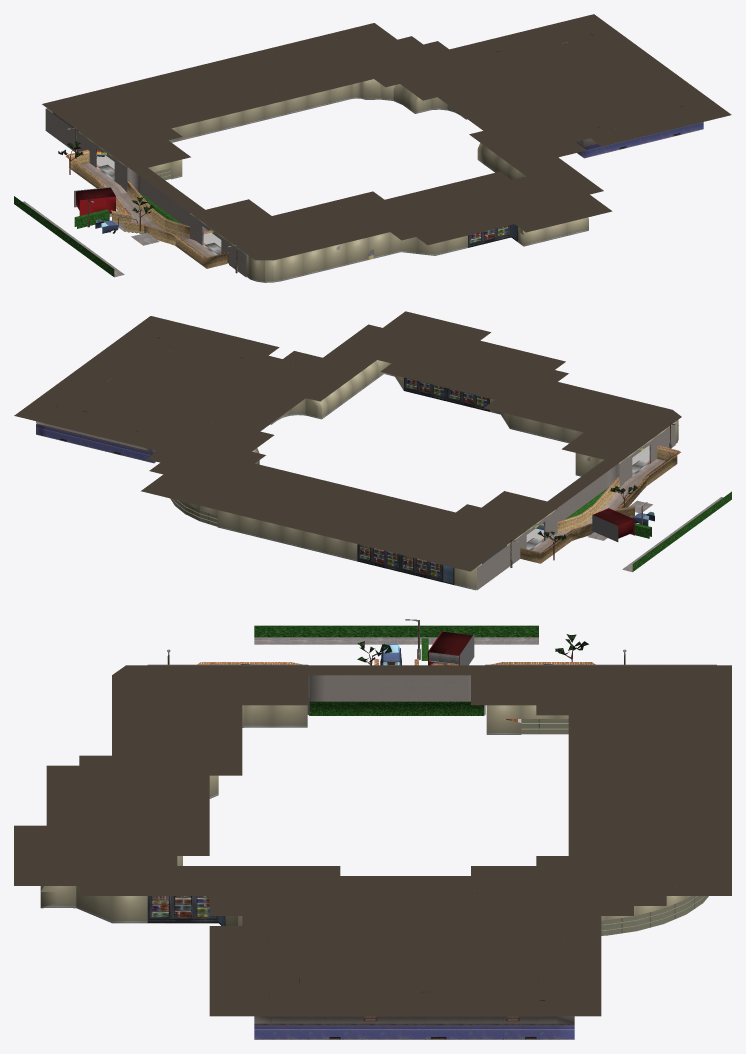
The model's file is market2.fbx.
3 views of the same model, one above another, from view 1: azimuth 30°, elevation 25°; view 2: azimuth 150°, elevation 25°; view 3: azimuth 270°, elevation 25° (orthographic). The views are drawn at different scales.
Parts seen in each view (by area): view 1: milk_ff.prm.001, milk_ff.prm.007, milk_ff.prm.002, milk_ff.prm.006, milk_ff.prm.008, milk_ff.prm.003; view 2: milk_ff.prm.001, milk_ff.prm.007, milk_ff.prm.006, milk_ff.prm.002, milk_ff.prm.008, milk_ff.prm.003, milk_ff.prm.010; view 3: milk_ff.prm.001, milk_ff.prm.006, milk_ff.prm.002, milk_ff.prm.007, milk_ff.prm.010, milk_ff.prm.008, milk_ff.prm.003.
Part boxes in pixels (left/top/right/bottom): milk_ff.prm.001: left=42, top=14, right=731, bottom=260; milk_ff.prm.007: left=47, top=79, right=588, bottom=282; milk_ff.prm.002: left=14, top=141, right=228, bottom=276; milk_ff.prm.006: left=45, top=34, right=703, bottom=277; milk_ff.prm.008: left=53, top=112, right=517, bottom=247; milk_ff.prm.003: left=23, top=118, right=466, bottom=277; milk_ff.prm.001: left=14, top=311, right=681, bottom=571; milk_ff.prm.007: left=183, top=360, right=678, bottom=590; milk_ff.prm.006: left=36, top=337, right=675, bottom=590; milk_ff.prm.002: left=519, top=445, right=731, bottom=571; milk_ff.prm.008: left=357, top=377, right=506, bottom=584; milk_ff.prm.003: left=544, top=444, right=723, bottom=572; milk_ff.prm.010: left=107, top=350, right=543, bottom=530; milk_ff.prm.001: left=14, top=619, right=731, bottom=1016; milk_ff.prm.006: left=148, top=619, right=716, bottom=1039; milk_ff.prm.002: left=197, top=625, right=595, bottom=715; milk_ff.prm.007: left=40, top=705, right=690, bottom=925; milk_ff.prm.010: left=437, top=663, right=708, bottom=935; milk_ff.prm.008: left=147, top=896, right=225, bottom=925; milk_ff.prm.003: left=254, top=637, right=538, bottom=644.
Size of the model in its own units: 27733 by 1821 by 20167.
11 materials, 10 textured.
